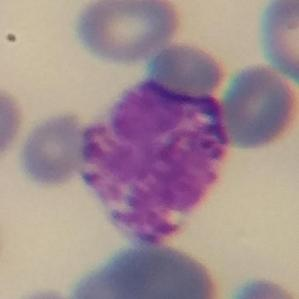Basophil: (77, 82, 234, 251)
RBC: (218, 61, 299, 153), (72, 0, 183, 66), (108, 238, 216, 299), (16, 110, 90, 188), (145, 40, 231, 105), (255, 0, 299, 85), (67, 263, 169, 299), (0, 84, 27, 162), (225, 274, 299, 299), (14, 283, 77, 299)
